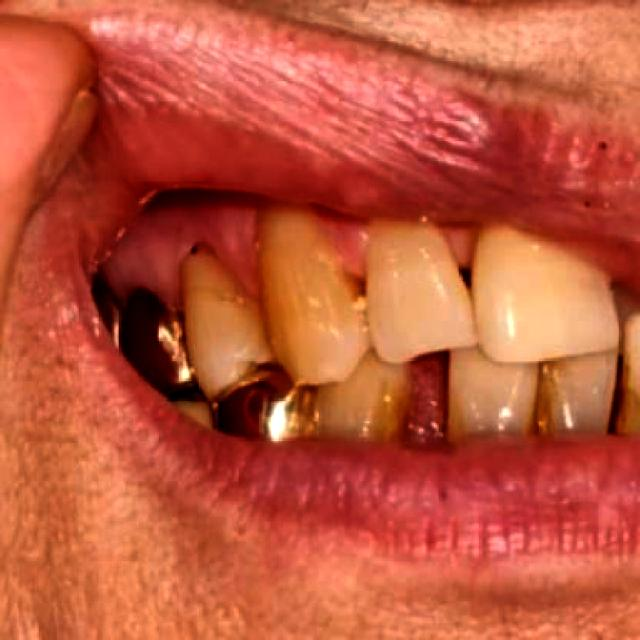Plaque: (200, 204, 257, 297), (323, 209, 369, 277)
